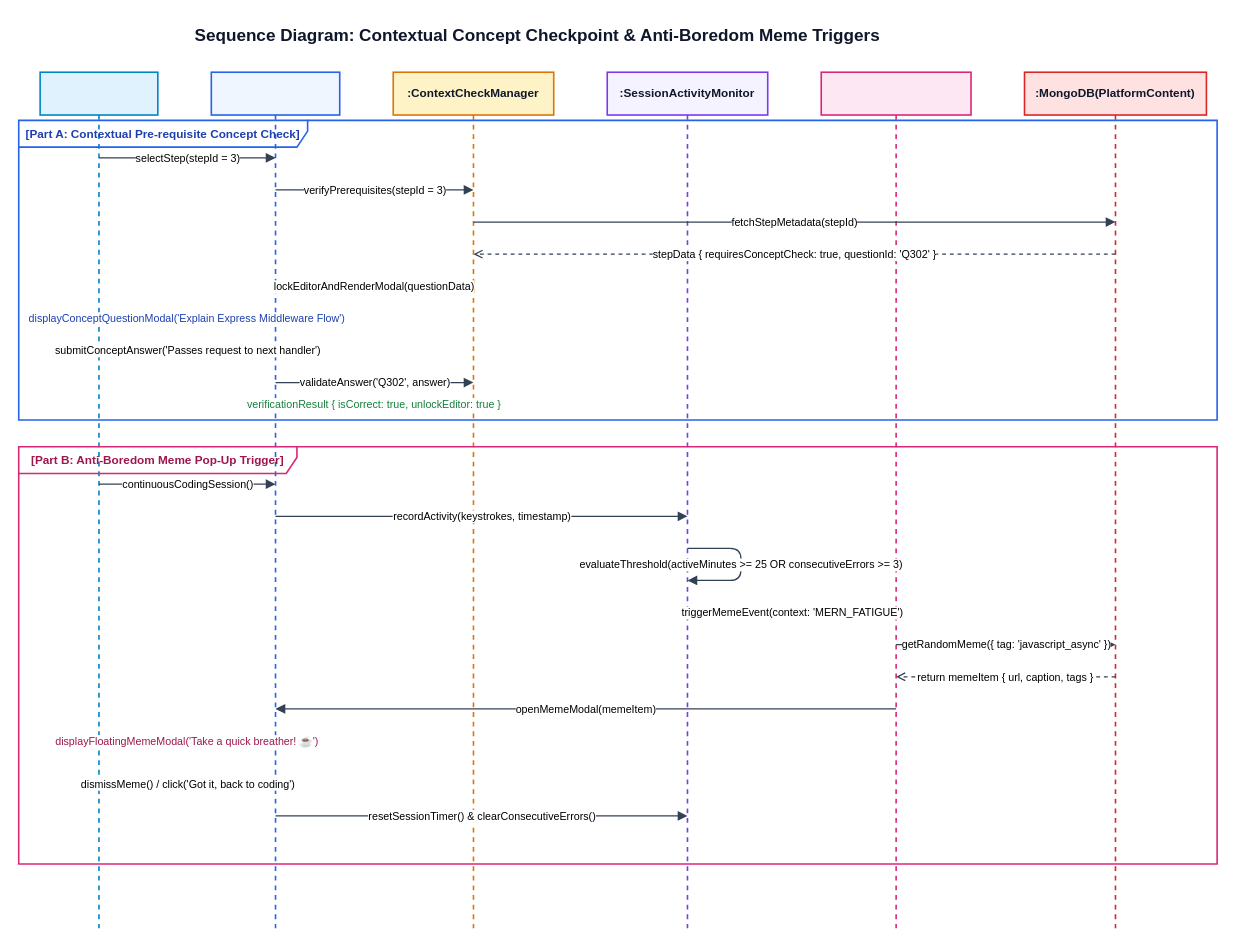
This 1237x947 diagram has some shape labels left out. Each missing label, with the box of its shape:
:MemePopupManager: (820, 71, 971, 929)
:TriPanelWorkspace: (210, 71, 340, 929)
Learner (Student): (39, 71, 158, 929)
